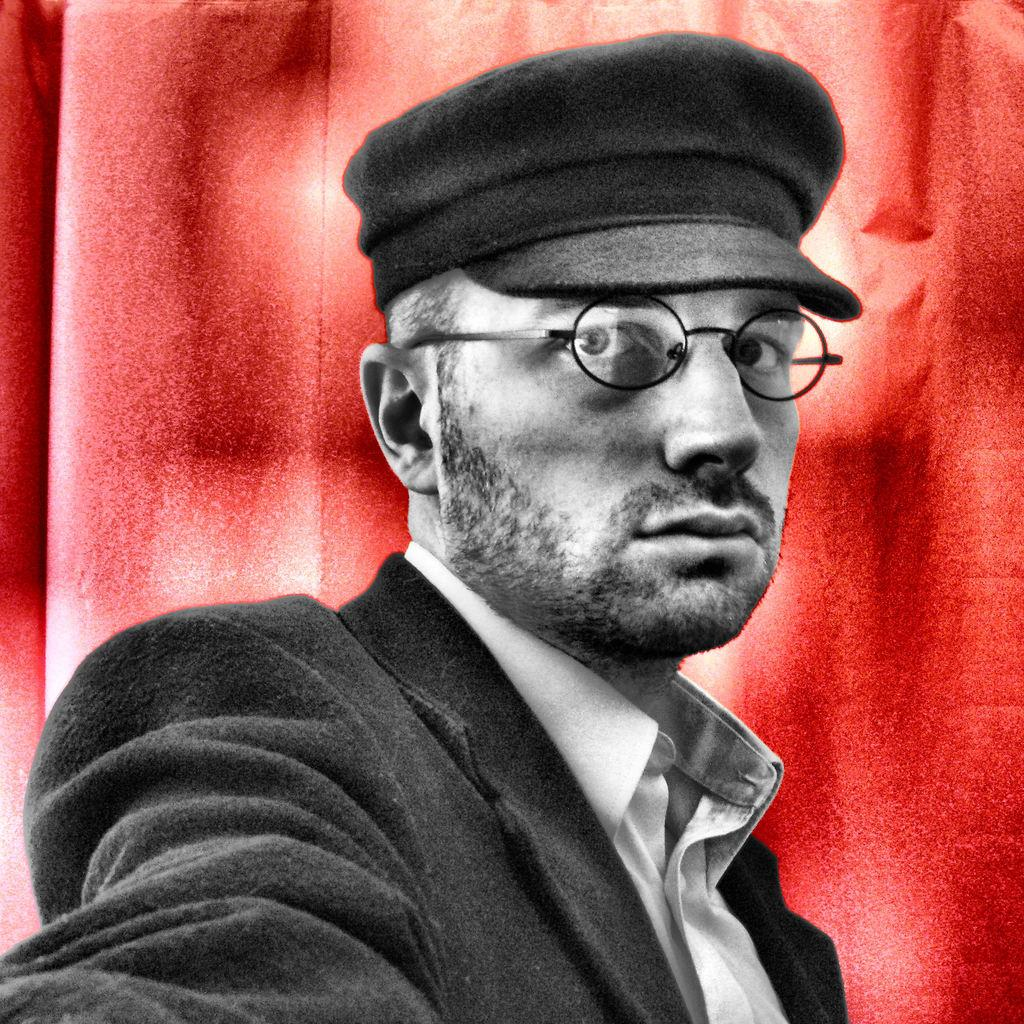Hat: (379, 48, 853, 326)
